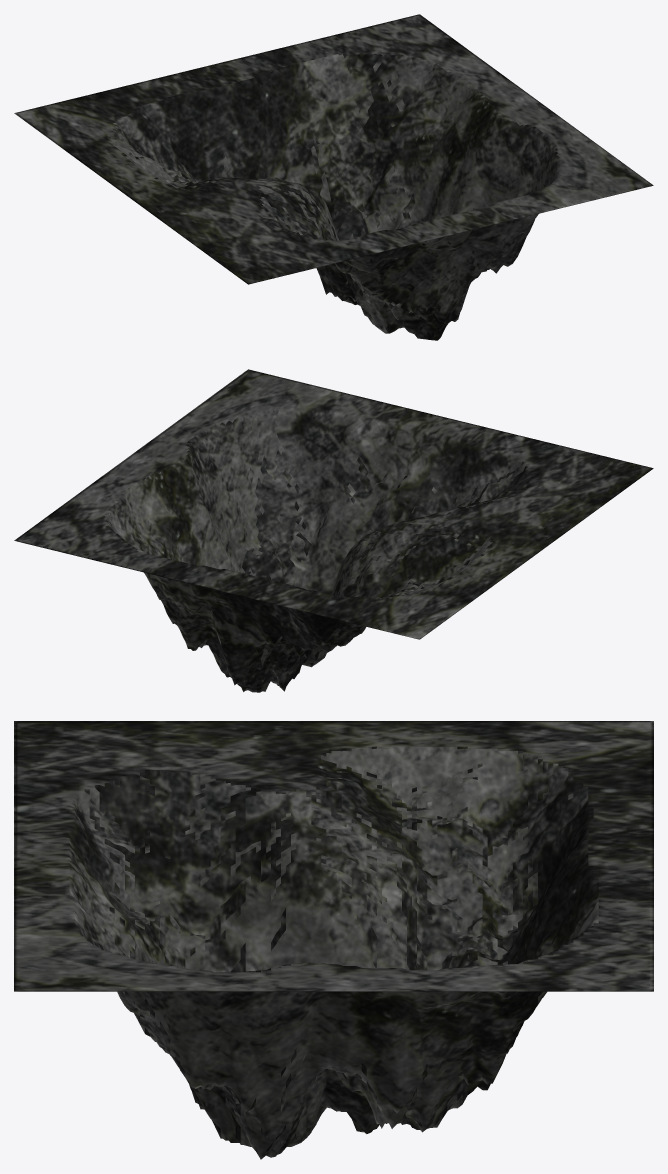
Rendered from Terreno.fbx.
3 views of the same model, one above another, from view 1: azimuth 30°, elevation 25°; view 2: azimuth 150°, elevation 25°; view 3: azimuth 270°, elevation 25° (orthographic). The views are drawn at different scales.
Parts seen in each view (by area): view 1: Landscape.001; view 2: Landscape.001; view 3: Landscape.001.
Boxes of the visible parts, x1,y1,x2,y2 form: Landscape.001: [14, 14, 653, 340]; Landscape.001: [14, 369, 653, 692]; Landscape.001: [14, 721, 653, 1159].
Bounding box in the file's own units: 53802 × 22328 × 53802.
